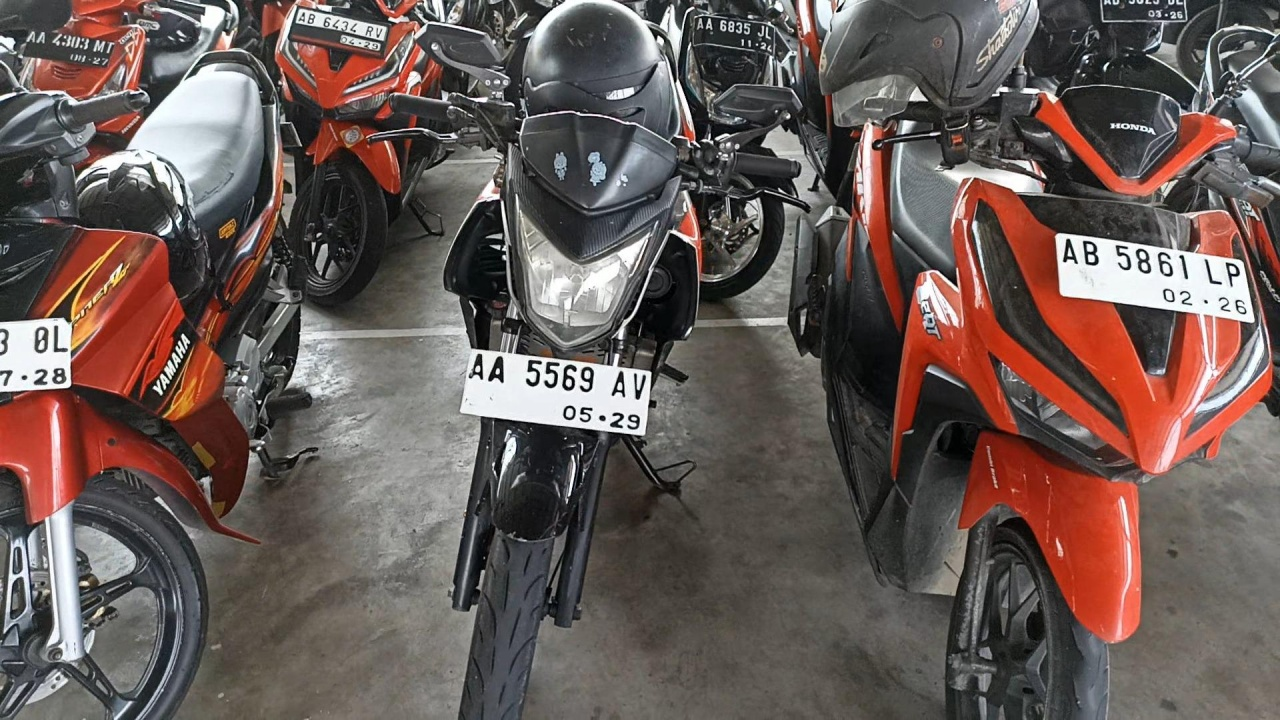plate: (1056, 234, 1256, 322), (461, 348, 651, 436), (289, 5, 390, 58), (24, 28, 114, 67), (694, 15, 775, 56)
